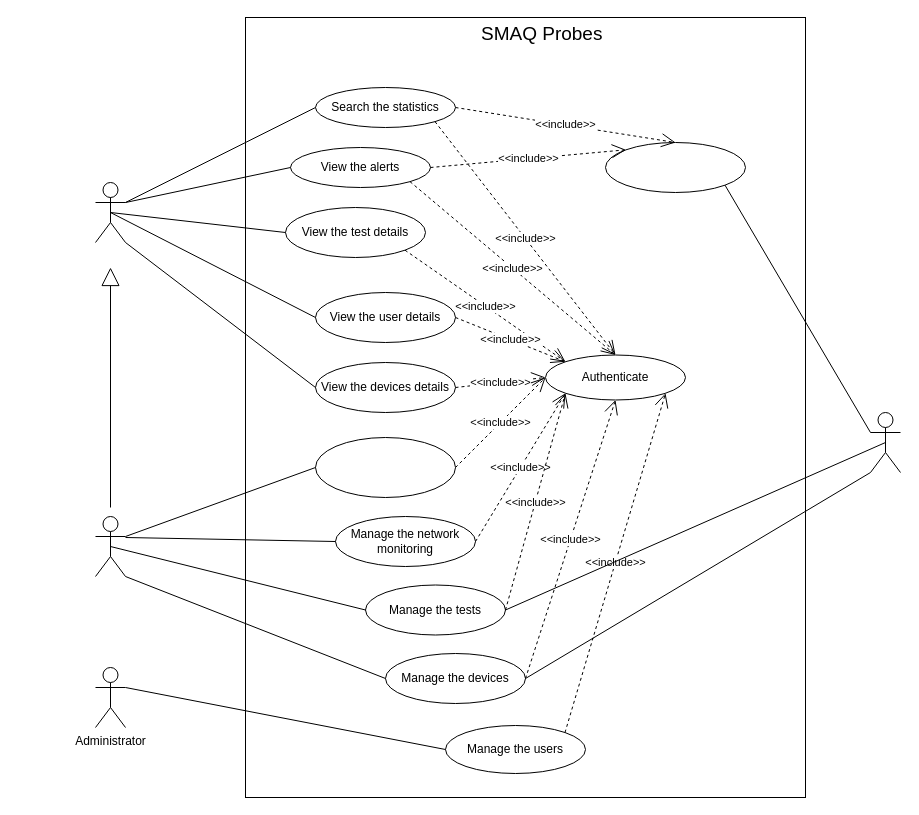
Image size: 919x815. Some labels were removed from this diagram. The centre of each missing label's shape, as x and y in pixels:
Manage the views and charts configuration: (x=385, y=467)
Network and broadband supervisor: (x=110, y=546)
Network supervisor: (x=110, y=212)
Probe: (x=885, y=442)
Process the received data in real-time: (x=675, y=167)
